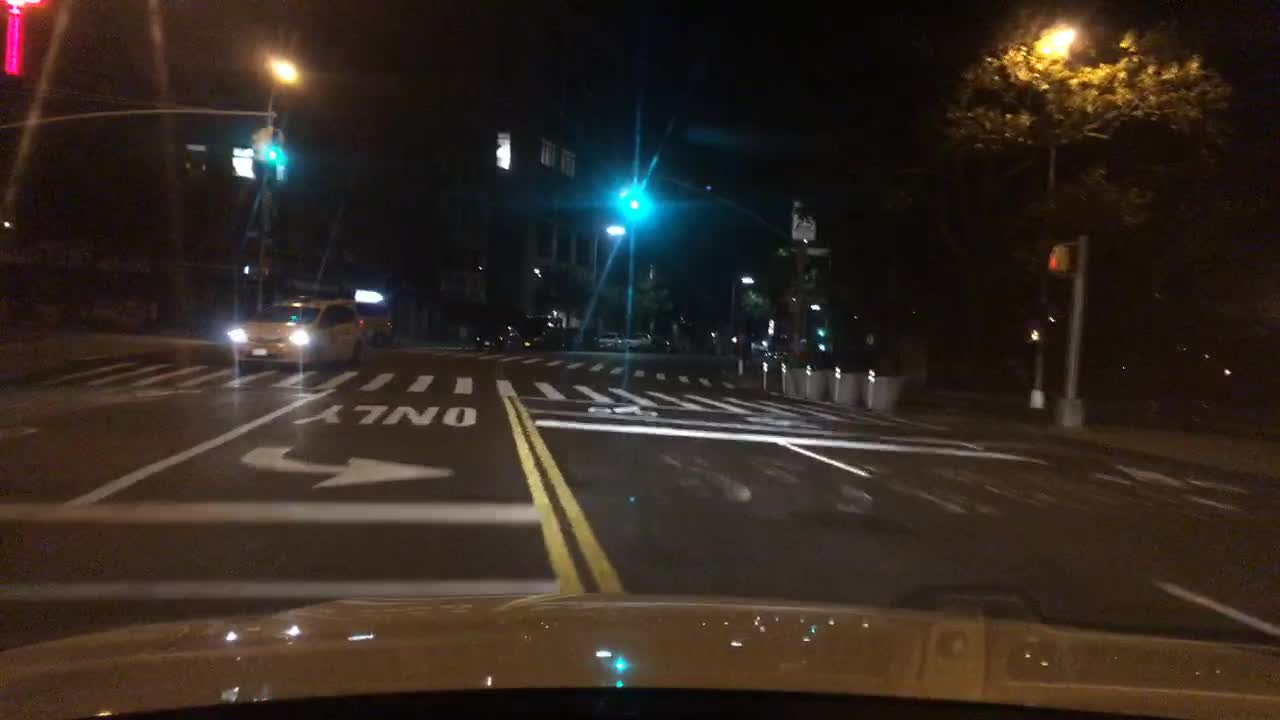car: (226, 292, 364, 371), (349, 288, 398, 346), (471, 319, 528, 354), (521, 315, 568, 351), (594, 327, 631, 353), (627, 331, 656, 353), (649, 336, 680, 349)
traffic light: (1044, 245, 1071, 272), (249, 125, 266, 158), (266, 125, 280, 160), (626, 179, 638, 216), (811, 320, 828, 339), (239, 260, 256, 277)
traffic sign: (789, 197, 813, 238), (805, 245, 833, 256)
